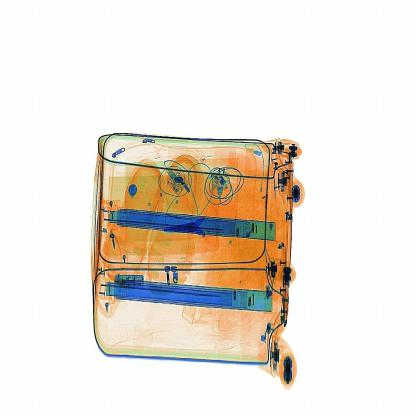gun: (160, 207, 230, 246)
